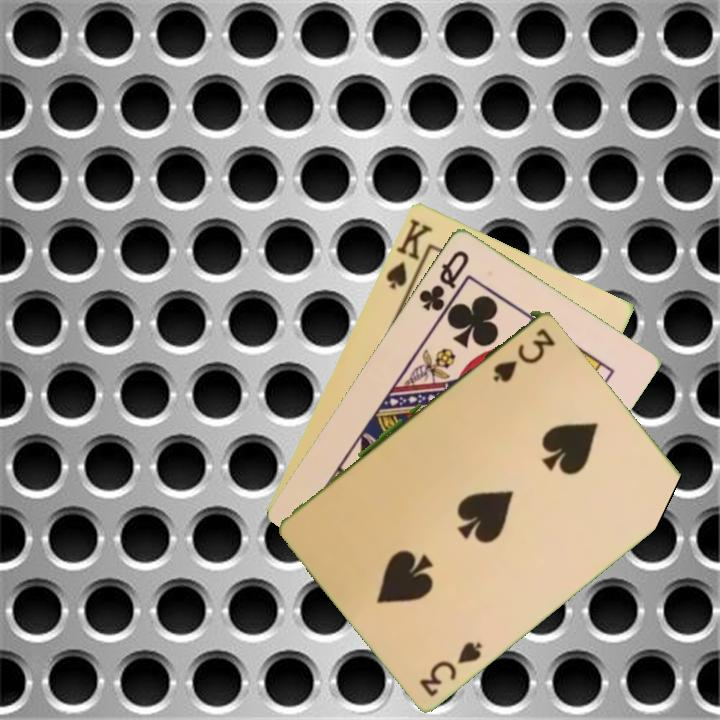3s: (415, 637, 486, 700), (489, 323, 556, 385)
Ks: (382, 214, 436, 292)
Qc: (415, 246, 472, 314)
